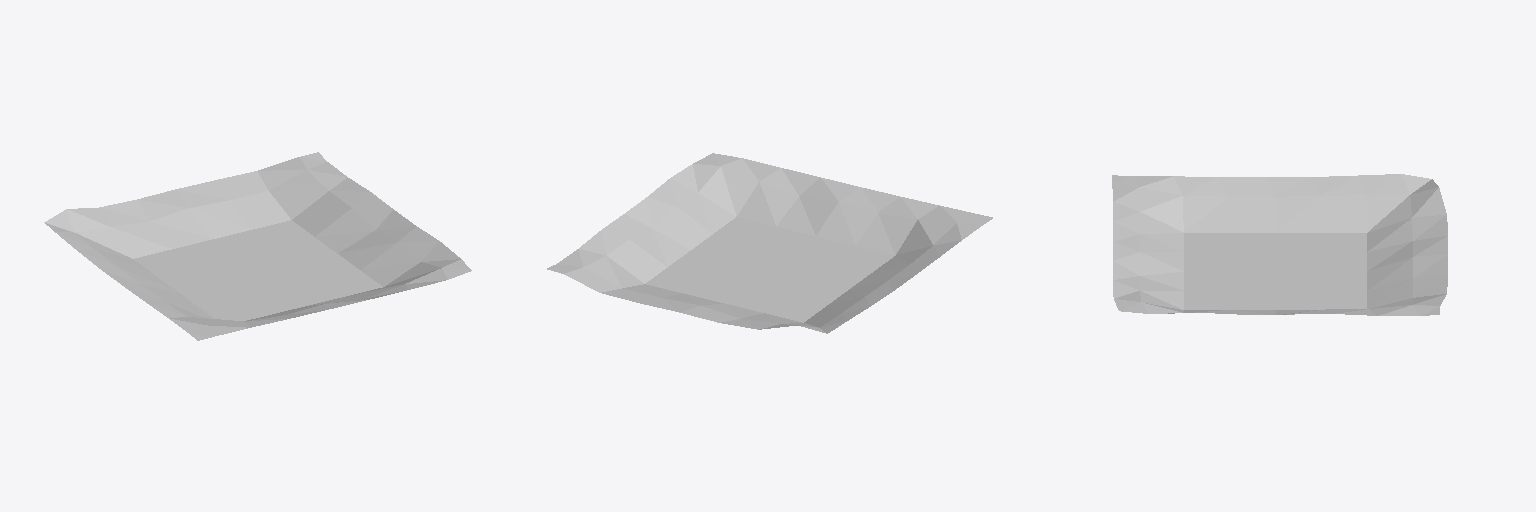
Rendered from field2.obj.
3 renders of one model, left to right at view 1: azimuth 30°, elevation 25°; view 2: azimuth 150°, elevation 25°; view 3: azimuth 270°, elevation 25°, orthographic.
Bounding box in the file's own units: 358 × 37.27 × 367.